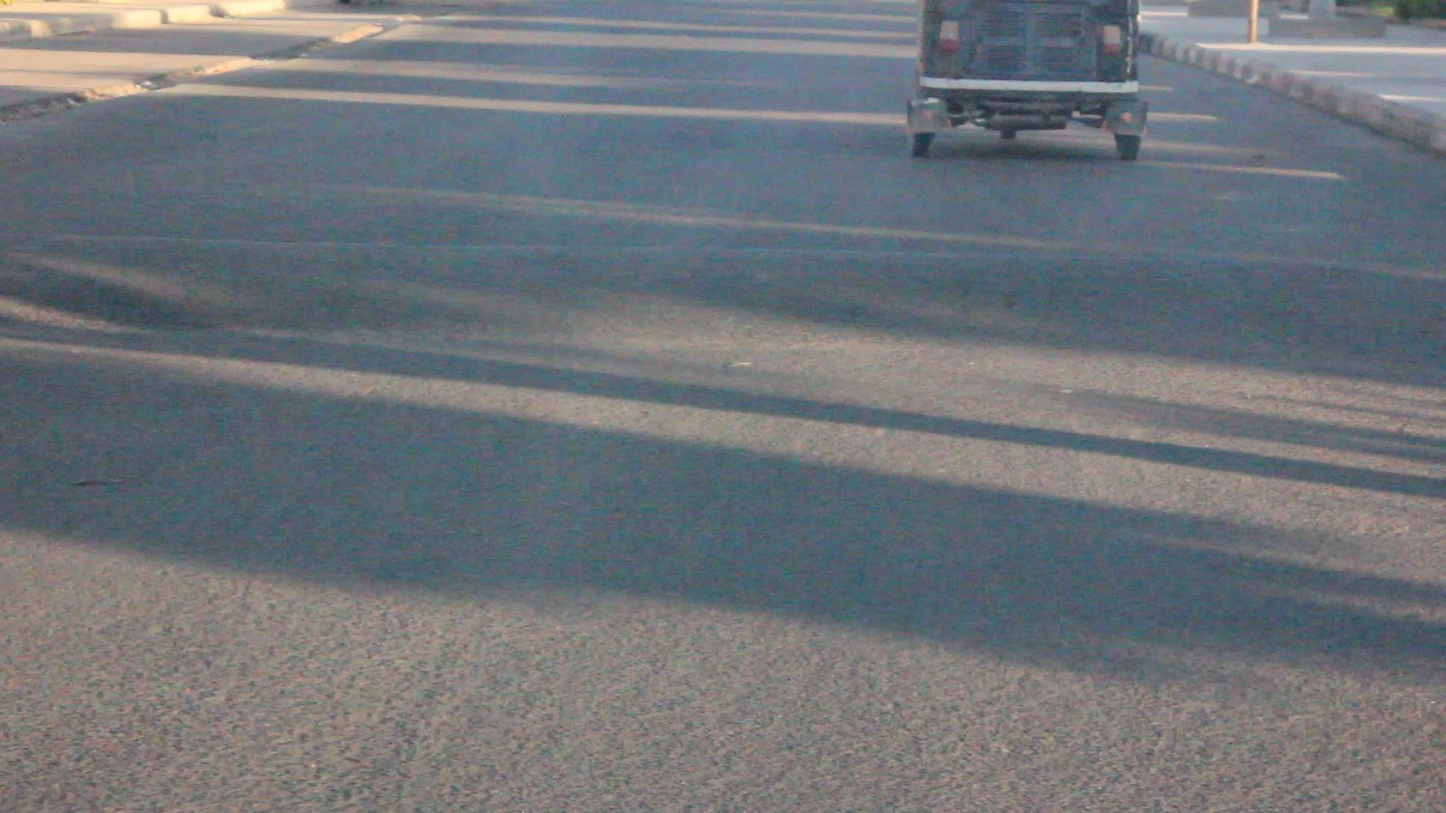Bump: (0, 230, 1446, 352)
